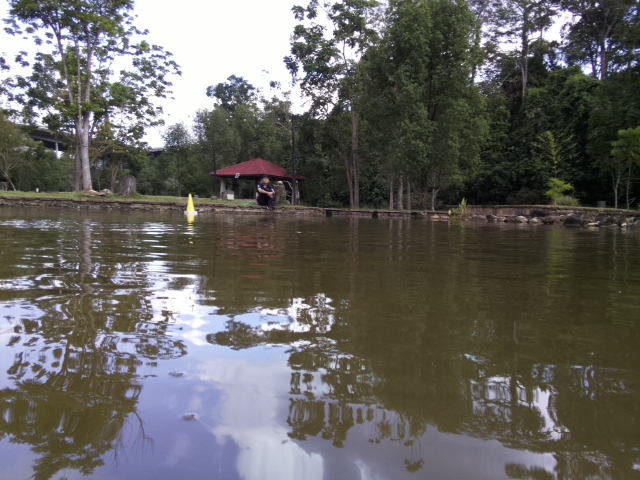checkpoint: (182, 191, 200, 217)
